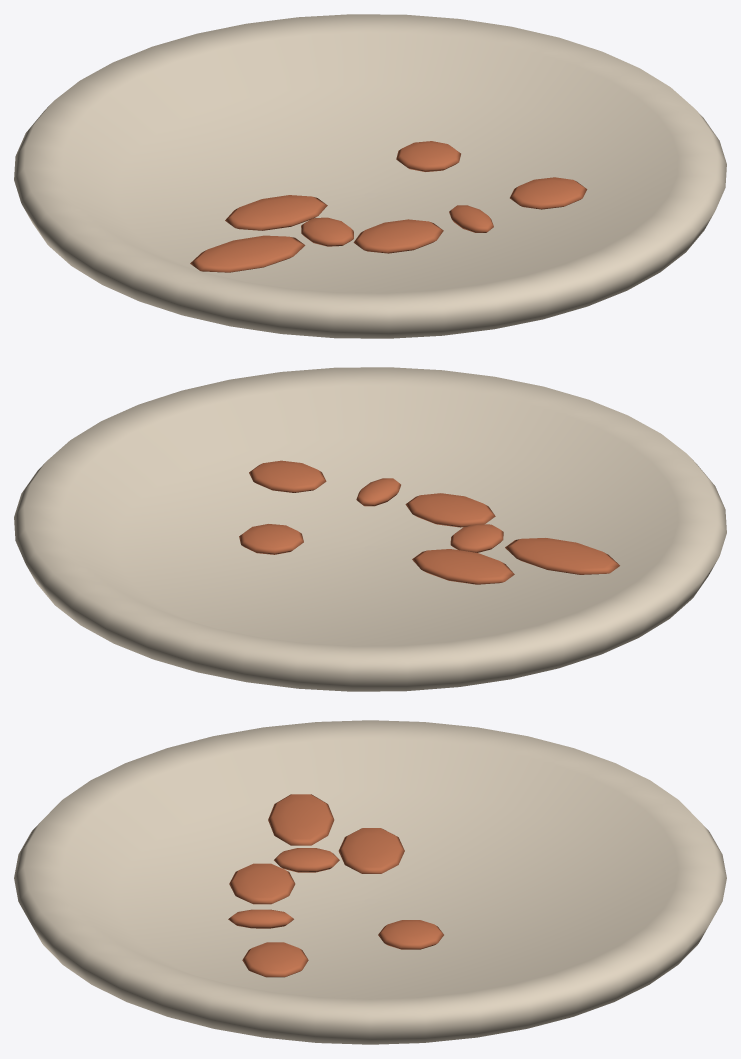
The model's file is dirty.glb.
The picture shows the model from 3 angles, top to bottom: view 1: azimuth 30°, elevation 25°; view 2: azimuth 150°, elevation 25°; view 3: azimuth 270°, elevation 25°; orthographic projection.
Parts seen in each view (by area): view 1: Turned ceramic plate.001, Sauce.006, Sauce.005, Sauce.004, Sauce.003, Sauce.002, Sauce.001, Sauce; view 2: Turned ceramic plate.001, Sauce.006, Sauce.005, Sauce.004, Sauce.003, Sauce.002, Sauce.001, Sauce; view 3: Turned ceramic plate.001, Sauce.006, Sauce.005, Sauce.004, Sauce.003, Sauce.002, Sauce.001, Sauce.
Boxes of the visible parts, <box> form: Turned ceramic plate.001: <box>14,14,726,338</box>; Sauce.006: <box>190,235,305,272</box>; Sauce.005: <box>225,195,327,230</box>; Sauce.004: <box>353,219,443,253</box>; Sauce.003: <box>510,177,587,209</box>; Sauce.002: <box>396,141,460,171</box>; Sauce.001: <box>301,217,353,246</box>; Sauce: <box>449,205,493,232</box>; Turned ceramic plate.001: <box>14,367,726,691</box>; Sauce.006: <box>505,538,619,574</box>; Sauce.005: <box>412,549,514,584</box>; Sauce.004: <box>405,493,495,527</box>; Sauce.003: <box>249,460,326,492</box>; Sauce.002: <box>239,524,303,554</box>; Sauce.001: <box>450,524,503,552</box>; Sauce: <box>356,478,400,506</box>; Turned ceramic plate.001: <box>14,720,726,1044</box>; Sauce.006: <box>268,794,334,845</box>; Sauce.005: <box>338,828,404,873</box>; Sauce.004: <box>229,863,295,904</box>; Sauce.003: <box>242,942,308,977</box>; Sauce.002: <box>378,920,443,949</box>; Sauce.001: <box>274,848,339,872</box>; Sauce: <box>228,909,293,928</box>.
Size of the model in its own units: 0.558 by 0.062 by 0.558.
